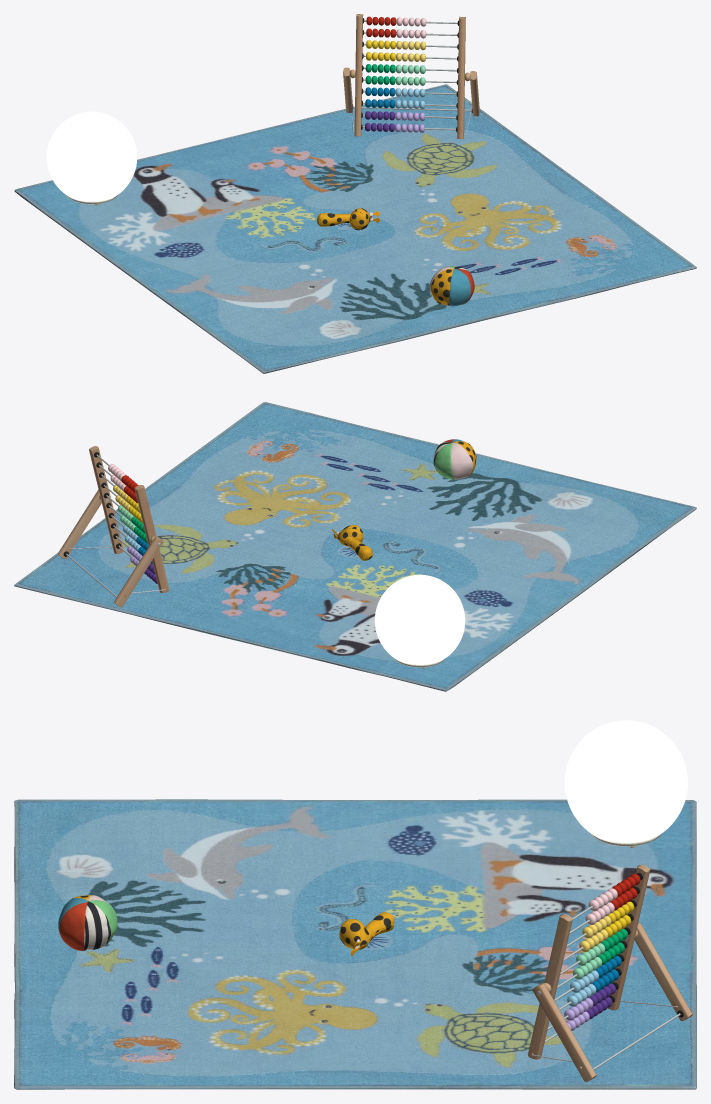
The model's file is PlaysetLightTestLOD.glb.
The picture shows the model from 3 angles, top to bottom: view 1: azimuth 30°, elevation 25°; view 2: azimuth 150°, elevation 25°; view 3: azimuth 270°, elevation 25°; orthographic projection. The views are drawn at different scales.
Visible parts, largest first — view 1: carpet, abacus, lamp_emissive, ball, giraffe; view 2: carpet, lamp_emissive, abacus, ball, giraffe; view 3: carpet, abacus, lamp_emissive, ball, giraffe.
Boxes of the visible parts, bbox=[...] form: carpet: bbox=[14, 84, 696, 373]; abacus: bbox=[343, 14, 479, 139]; lamp_emissive: bbox=[46, 111, 137, 201]; ball: bbox=[429, 266, 474, 306]; giraffe: bbox=[317, 208, 379, 230]; carpet: bbox=[14, 402, 696, 691]; lamp_emissive: bbox=[374, 574, 465, 664]; abacus: bbox=[57, 446, 169, 607]; ball: bbox=[433, 439, 476, 479]; giraffe: bbox=[332, 525, 372, 560]; carpet: bbox=[14, 799, 696, 1089]; abacus: bbox=[528, 864, 692, 1081]; lamp_emissive: bbox=[564, 720, 687, 842]; ball: bbox=[58, 895, 117, 950]; giraffe: bbox=[339, 912, 394, 955].
Size of the model in its own units: 1.33 by 0.3276 by 1.33.
6 materials, 5 textured.
